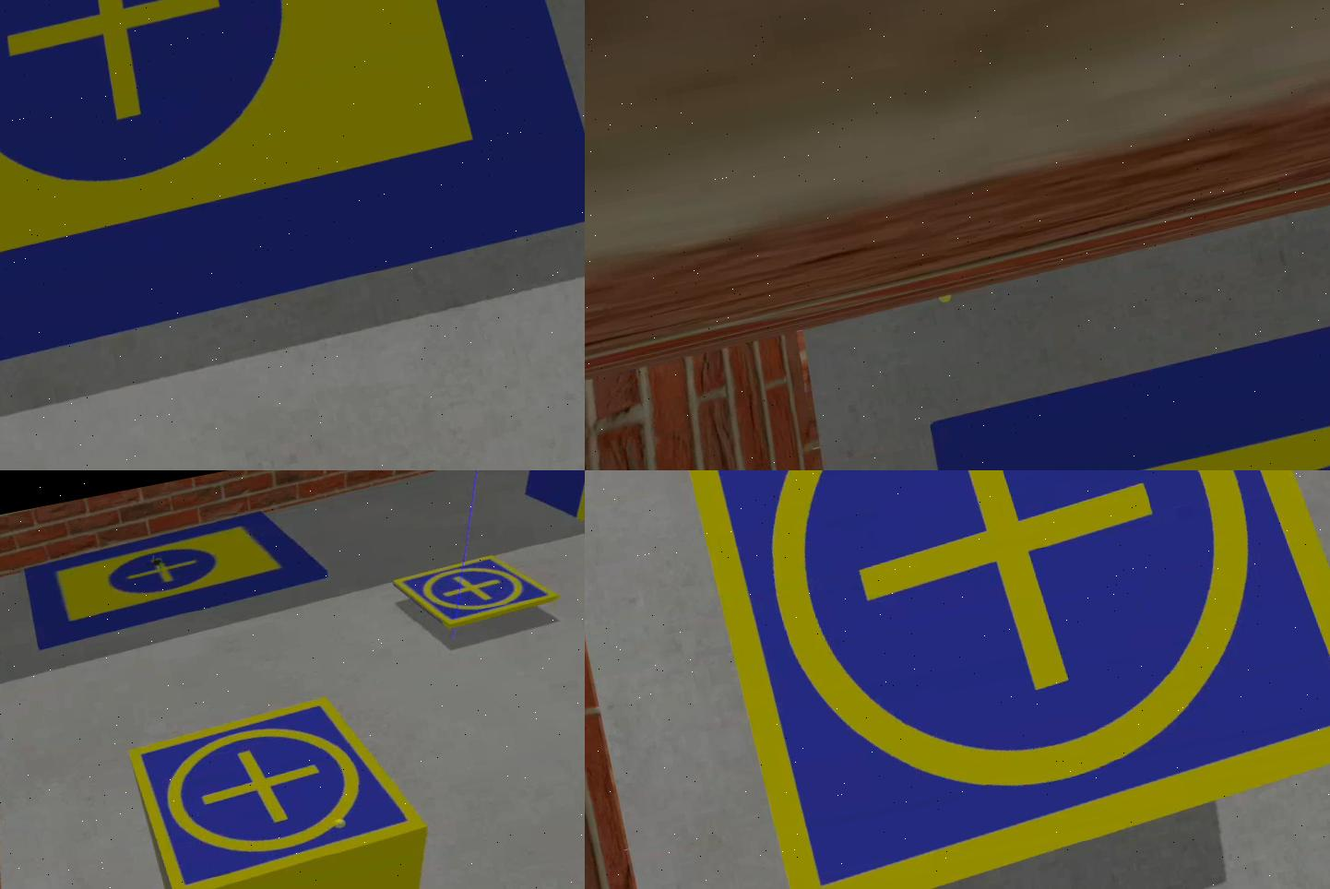large_base: (1, 1, 586, 417), (920, 244, 1330, 471), (20, 500, 339, 647)
small_base: (651, 471, 1330, 889), (125, 684, 433, 889), (395, 544, 559, 639)
